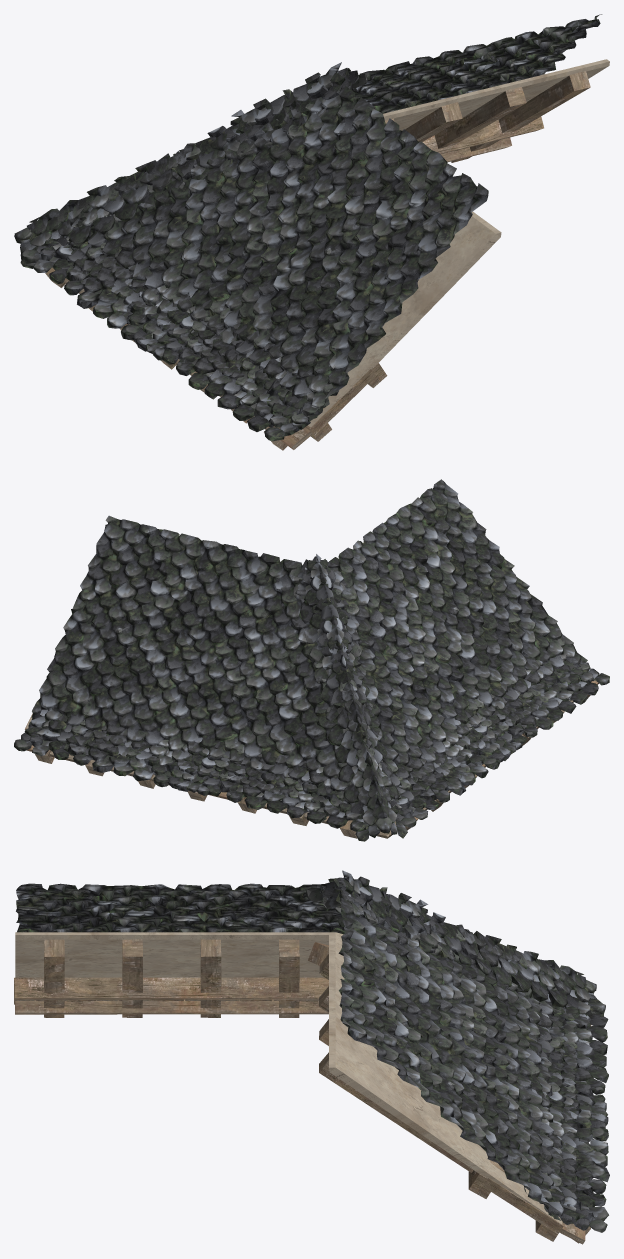
File: SM_Roof_A_12.fbx
3 renders of one model, top to bottom at view 1: azimuth 30°, elevation 25°; view 2: azimuth 150°, elevation 25°; view 3: azimuth 270°, elevation 25°, orthographic. The views are drawn at different scales.
Visible parts, largest first — view 1: SM_Roof_A_12_LOD0; view 2: SM_Roof_A_12_LOD0; view 3: SM_Roof_A_12_LOD0.
Part boxes in pixels (x1,y1,x2,y2): SM_Roof_A_12_LOD0: (14, 14, 609, 450); SM_Roof_A_12_LOD0: (14, 479, 609, 841); SM_Roof_A_12_LOD0: (14, 870, 609, 1244).
Bounding box in the file's own units: 760 × 761 × 354.
